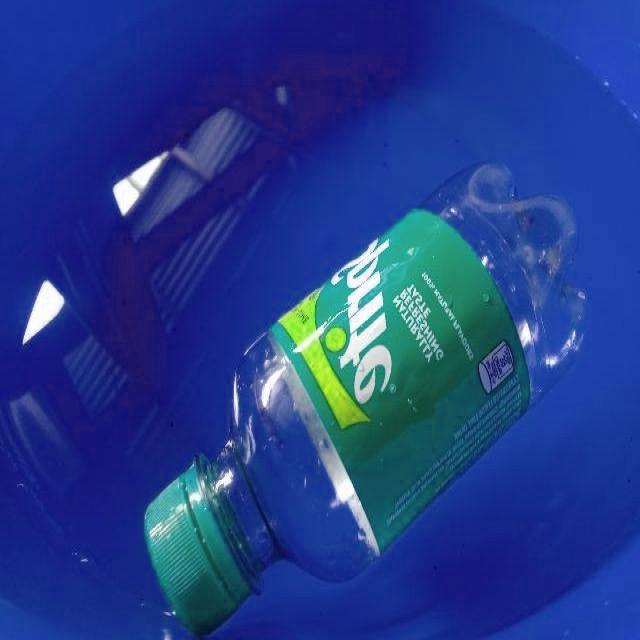Plastic: (140, 159, 604, 640)
